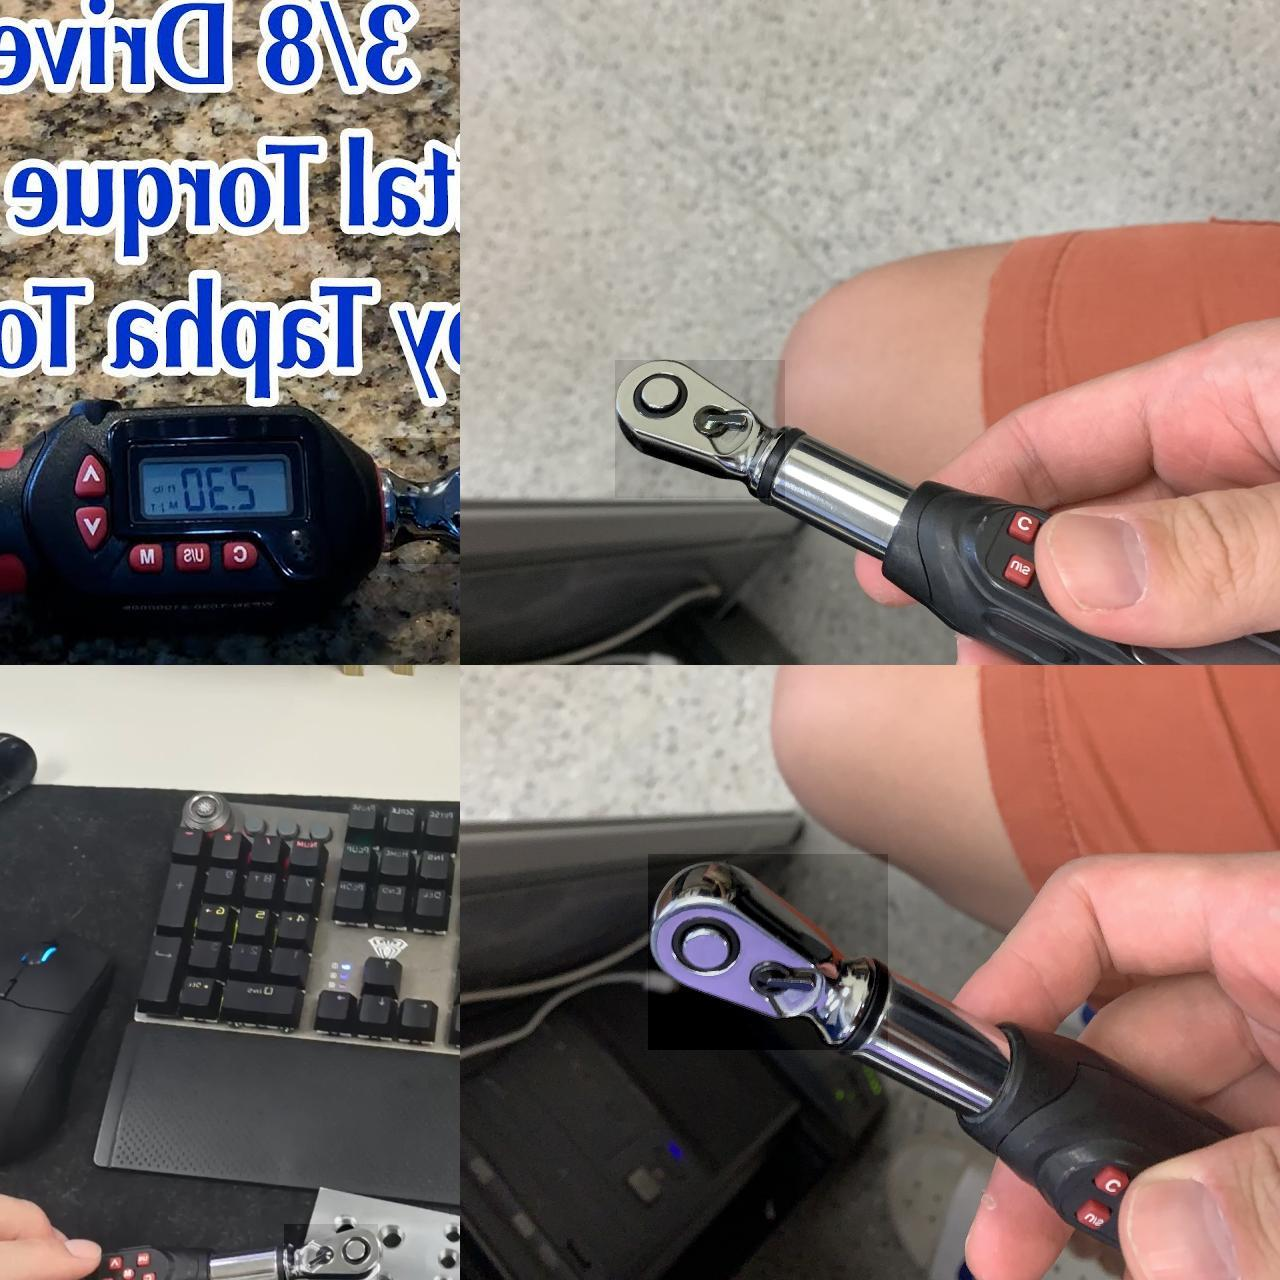Tool: (647, 853, 887, 1049), (614, 359, 784, 497), (389, 437, 459, 563), (282, 1223, 377, 1280)
